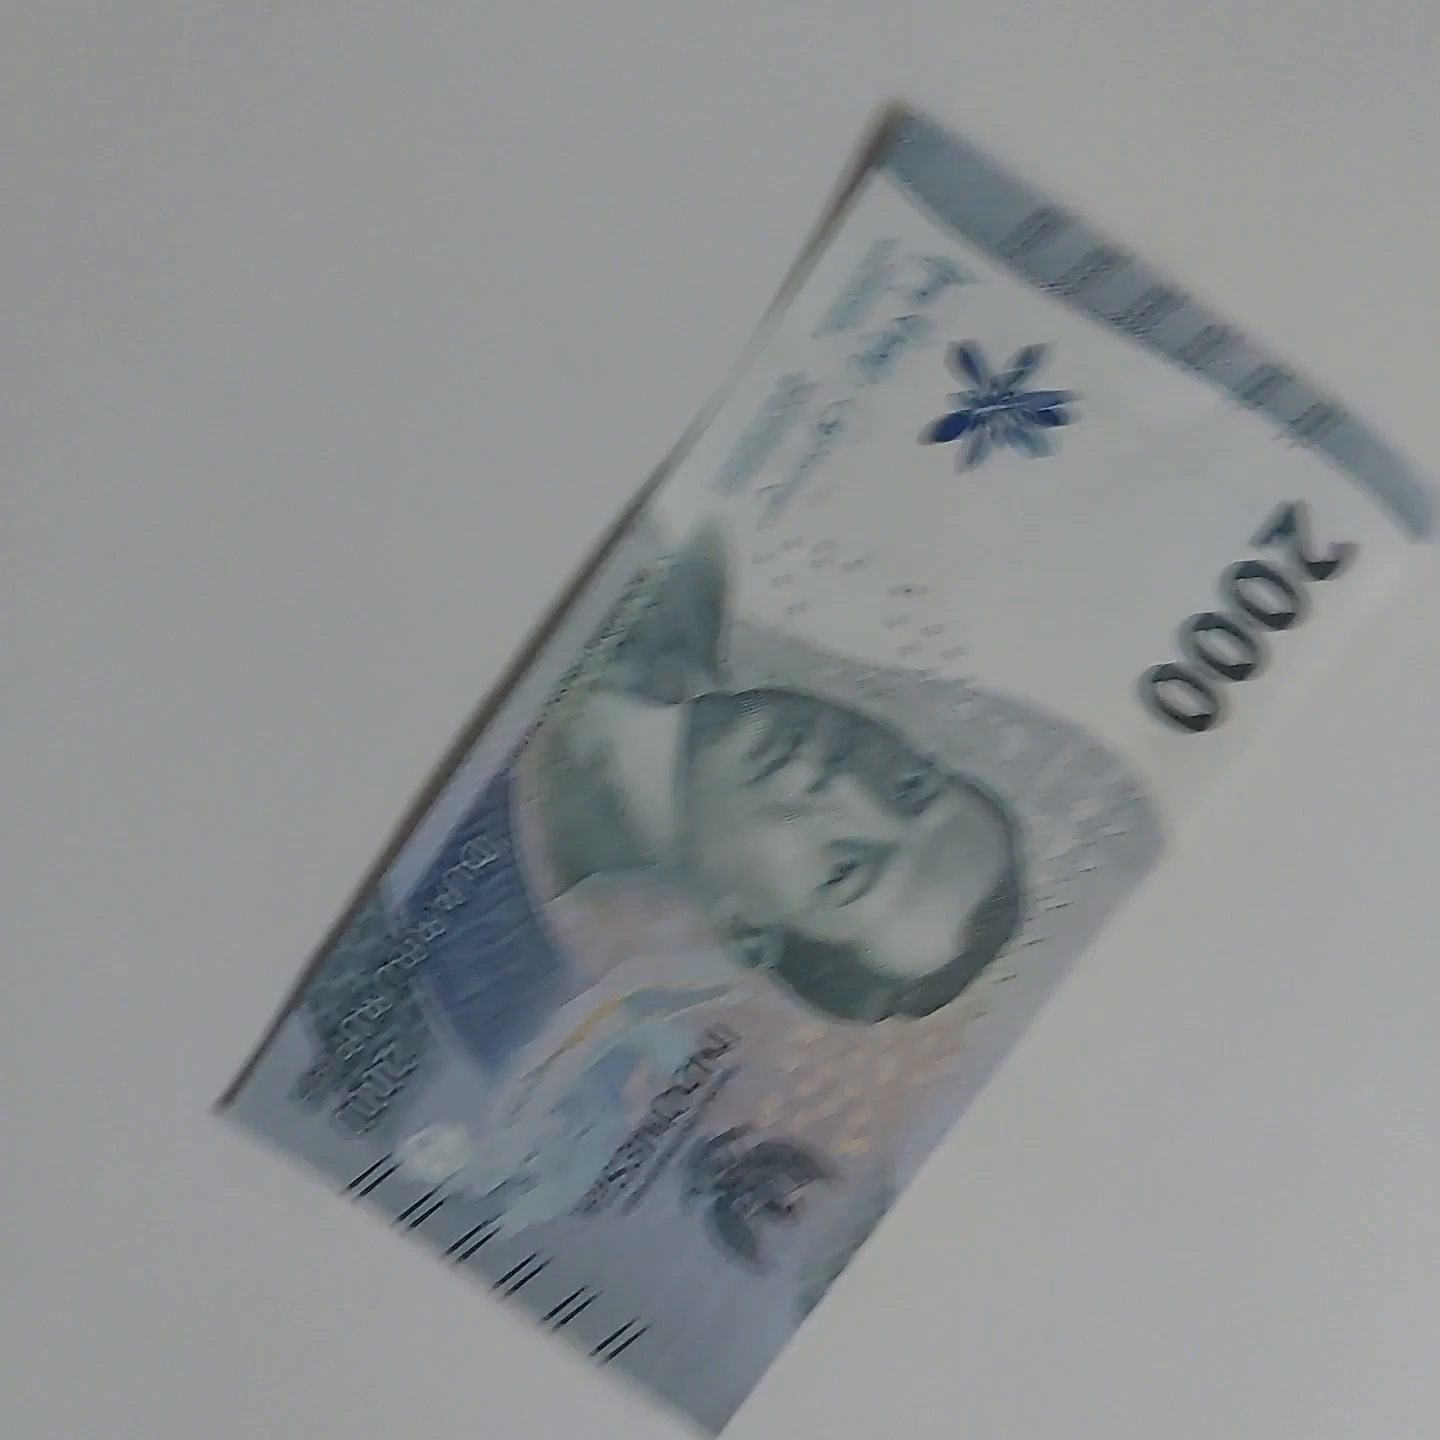2k: (199, 112, 1423, 1440)
